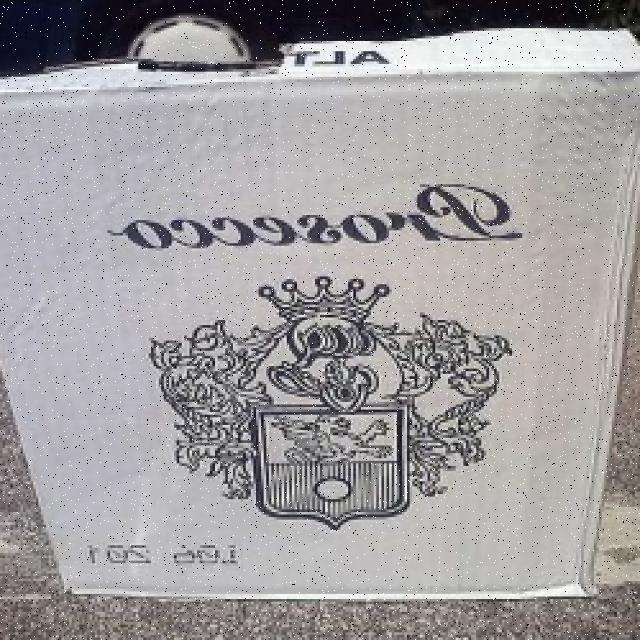box: (15, 28, 640, 597)
